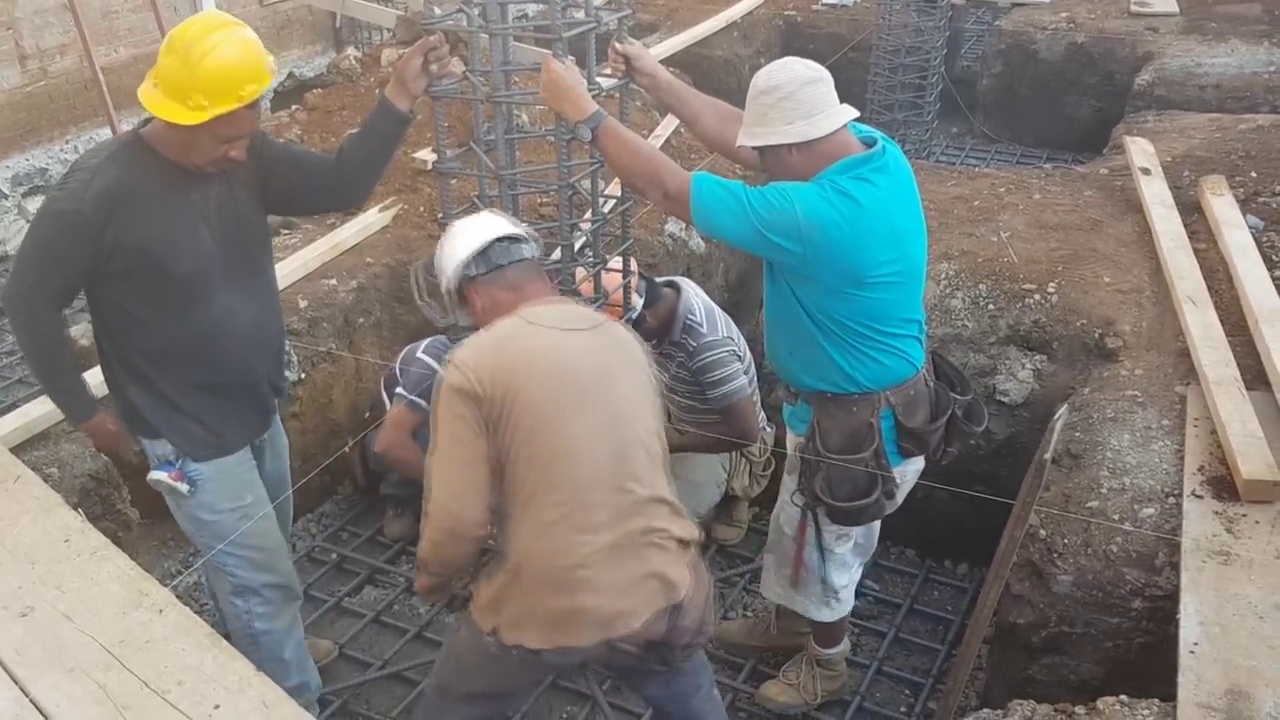helmet: (132, 10, 279, 129), (433, 208, 541, 320), (577, 253, 636, 316)
helmet-off: (730, 53, 867, 190)
helmet-on: (127, 7, 280, 172), (428, 202, 570, 332), (577, 253, 686, 345)
person: (0, 0, 452, 702), (547, 31, 938, 701), (402, 196, 732, 706), (572, 250, 772, 572), (372, 309, 469, 549)
